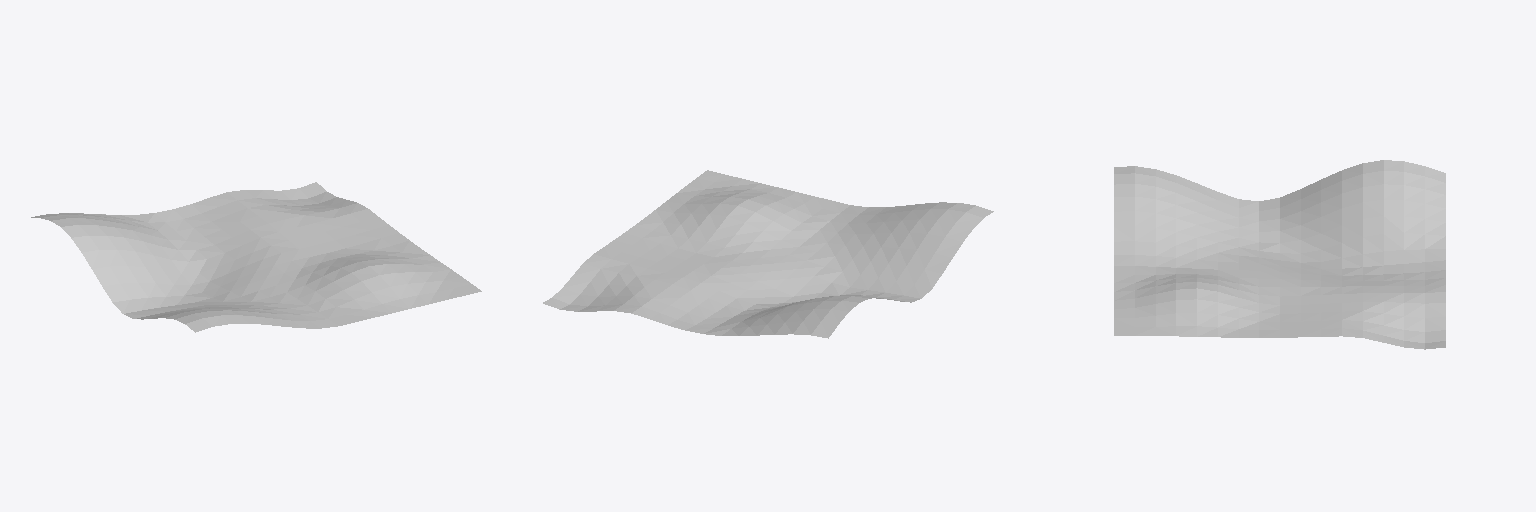
File: map.obj
3 renders of one model, left to right at view 1: azimuth 30°, elevation 25°; view 2: azimuth 150°, elevation 25°; view 3: azimuth 270°, elevation 25°, orthographic.
Visible parts, largest first — view 1: Plane; view 2: Plane; view 3: Plane.
Boxes of the visible parts, <box> form: Plane: <box>31,182,481,332</box>; Plane: <box>543,170,993,338</box>; Plane: <box>1114,160,1445,349</box>.
Size of the model in its own units: 100 by 17.34 by 100.